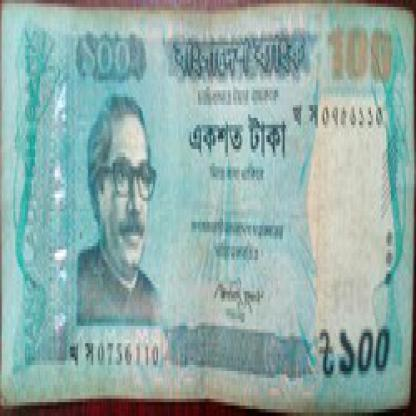one hundred taka: (320, 14, 400, 90), (338, 305, 394, 392), (78, 24, 148, 83)
